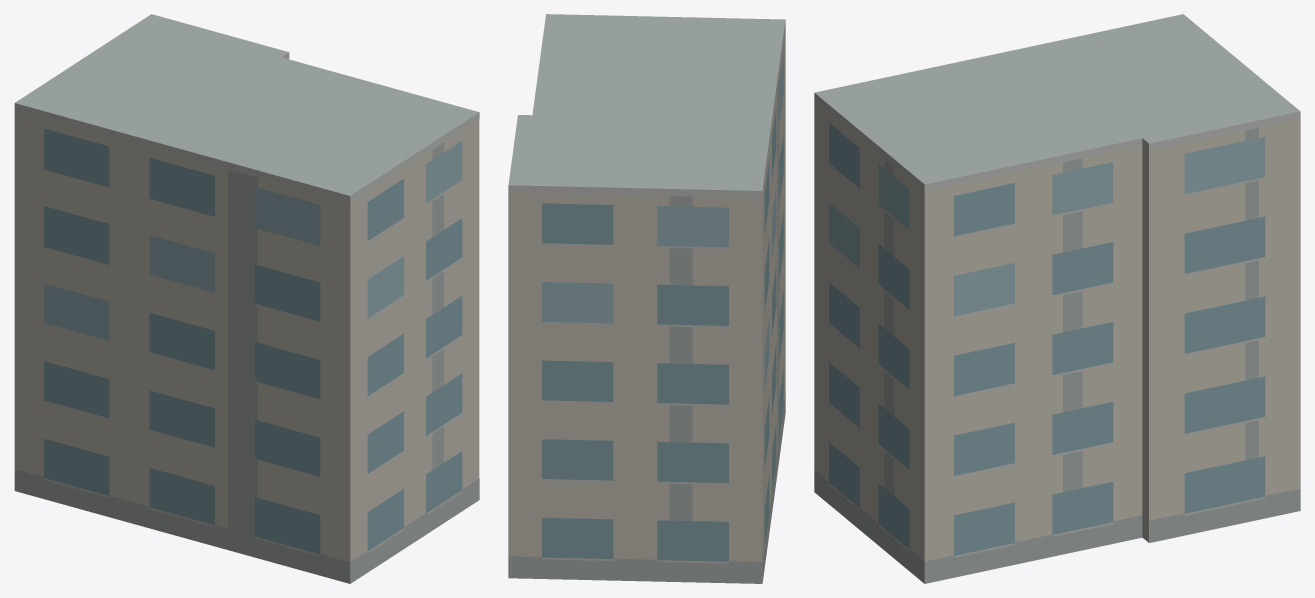
The model's file is survey-upis-32827779.glb.
The picture shows the model from 3 angles, left to right: view 1: azimuth 30°, elevation 25°; view 2: azimuth 150°, elevation 25°; view 3: azimuth 270°, elevation 25°; orthographic projection. The views are drawn at different scales.
Visible parts, largest first — view 1: survey-upis-32827779.tmp; view 2: survey-upis-32827779.tmp; view 3: survey-upis-32827779.tmp.
Part boxes in pixels (x1,y1,x2,y2): survey-upis-32827779.tmp: [14, 14, 479, 583]; survey-upis-32827779.tmp: [508, 14, 785, 583]; survey-upis-32827779.tmp: [814, 14, 1300, 583].
Bounding box in the file's own units: 12 × 13.1 × 14.46.
